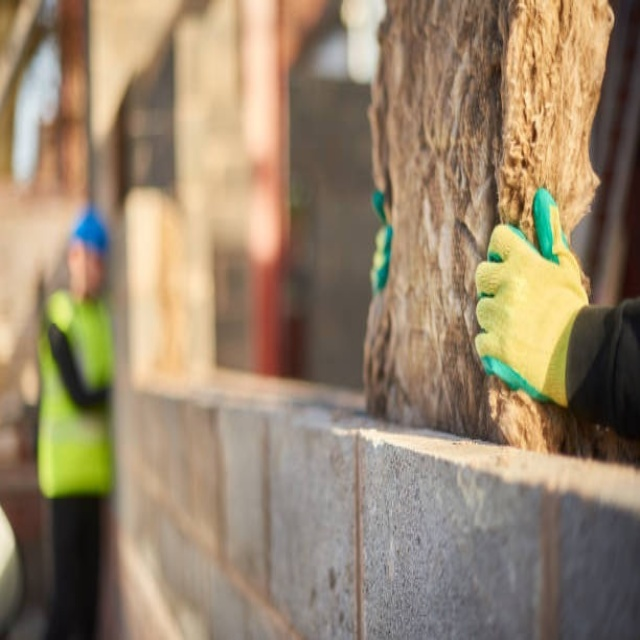Guantes: (468, 180, 587, 414), (363, 173, 394, 301)
